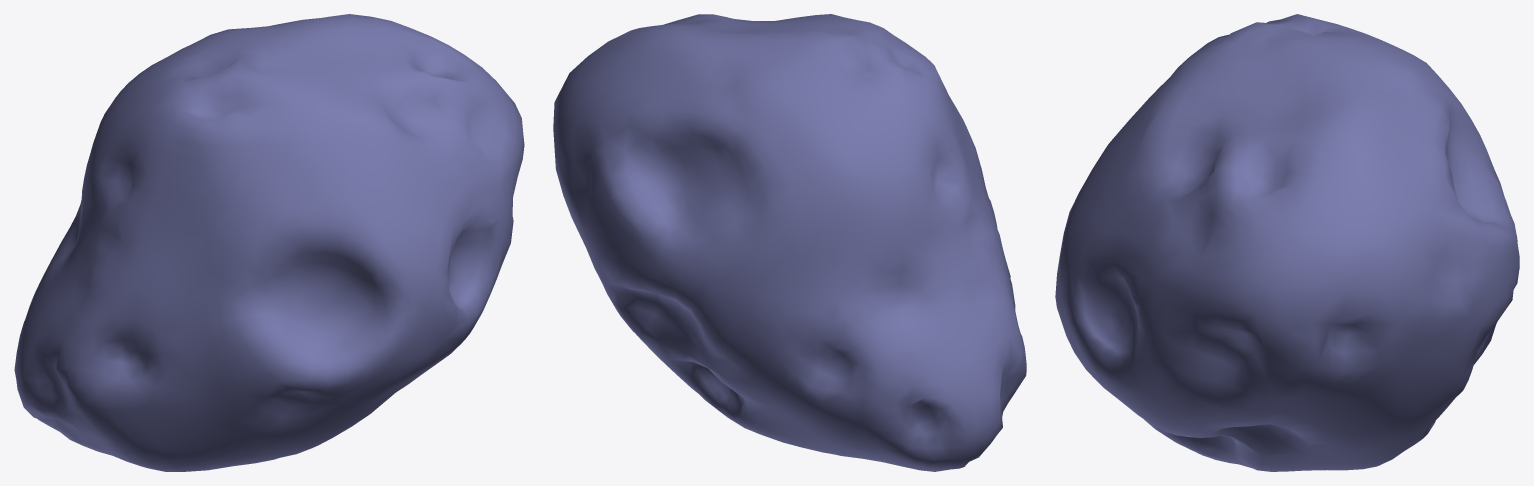
File: sm_comet.fbx
3 renders of one model, left to right at view 1: azimuth 30°, elevation 25°; view 2: azimuth 150°, elevation 25°; view 3: azimuth 270°, elevation 25°, orthographic. The views are drawn at different scales.
Parts seen in each view (by area): view 1: sm_comet; view 2: sm_comet; view 3: sm_comet.
Part boxes in pixels (left/top/right/bottom): sm_comet: left=14, top=14, right=524, bottom=471; sm_comet: left=553, top=14, right=1026, bottom=471; sm_comet: left=1055, top=14, right=1519, bottom=471.
Bounding box in the file's own units: 101 × 80.64 × 80.04.
